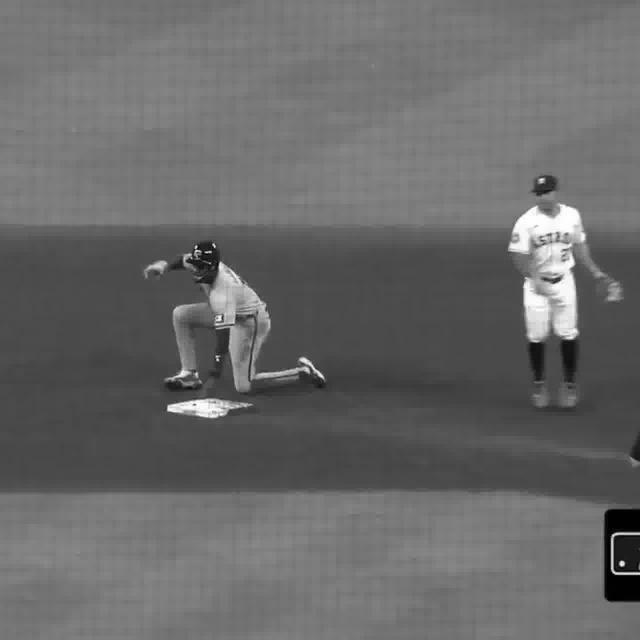base: (167, 398, 252, 420), (592, 269, 630, 306)
shoe: (300, 356, 330, 388), (162, 369, 196, 394), (530, 379, 550, 412), (558, 383, 579, 412)
